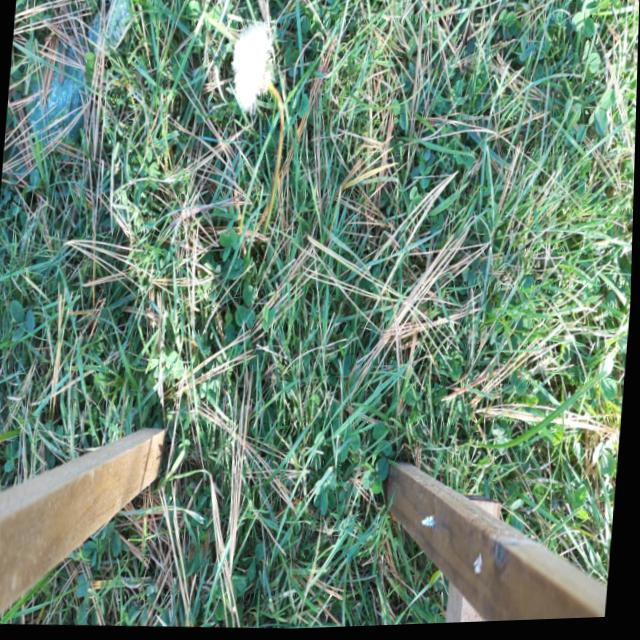base: (243, 231, 267, 272)
